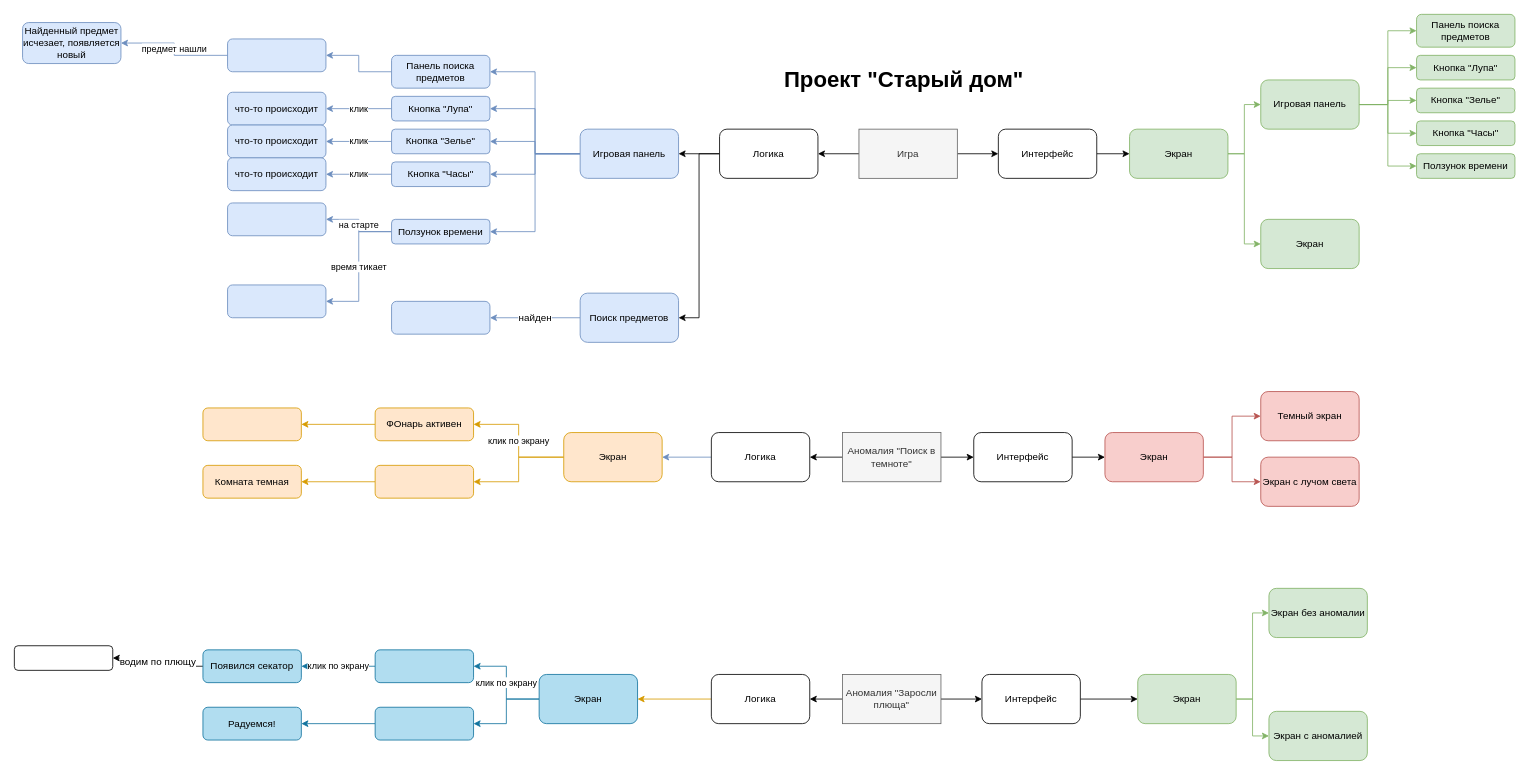
This 1529x775 diagram has some shape labels left out. The shapes that lost their labels are listed below. From the top down, each one's centre as x and y in pixels, then its label:
pixel 276 55: Появляются черные силуэты предметов
pixel 276 219: ползунок синий
pixel 276 301: ползунок становится меньше
pixel 440 317: Предмет исчезает
pixel 251 424: луч света освещает часть комнаты
pixel 424 481: ФОнарь неактивен
pixel 63 657: Плющ исчезает
pixel 424 666: Вырос плющ
pixel 424 723: Плюща нет
